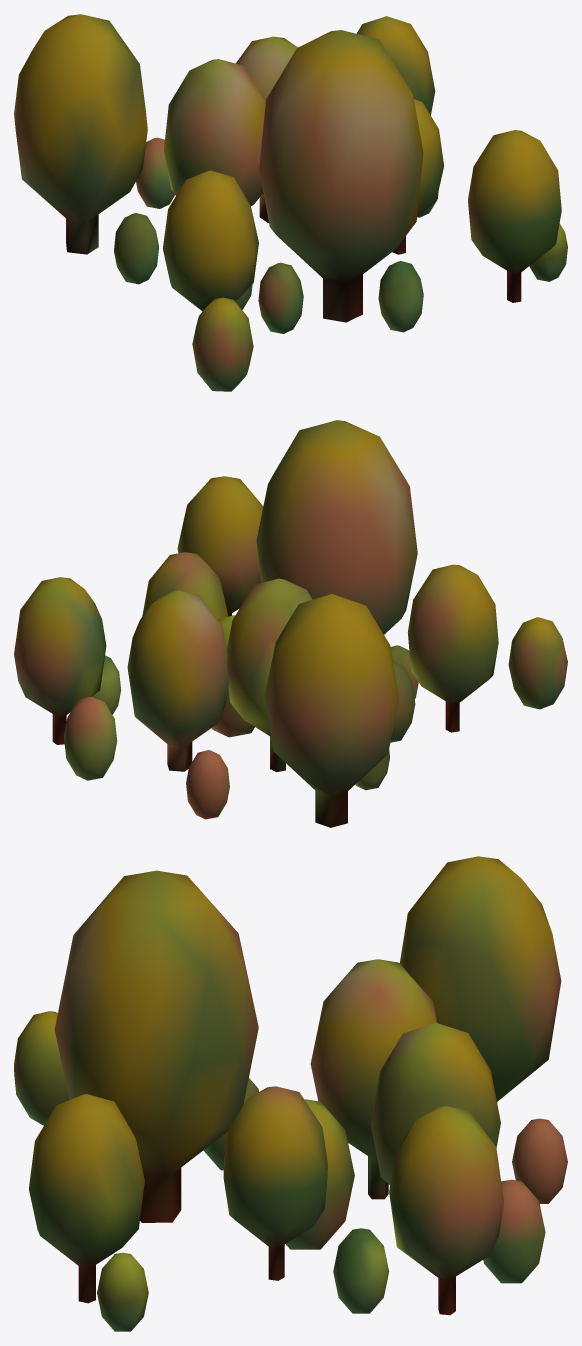
File: SM_Forest_2.glb
3 renders of one model, top to bottom at view 1: azimuth 30°, elevation 25°; view 2: azimuth 150°, elevation 25°; view 3: azimuth 270°, elevation 25°, orthographic. The views are drawn at different scales.
Parts seen in each view (by area): view 1: SM_Forest_2; view 2: SM_Forest_2; view 3: SM_Forest_2.
Boxes of the visible parts, x1=… form: SM_Forest_2: x1=14, y1=14, x2=567, y2=391; SM_Forest_2: x1=14, y1=420, x2=567, y2=827; SM_Forest_2: x1=14, y1=856, x2=567, y2=1331.
Size of the model in its own units: 6.63 by 4.51 by 6.6.
